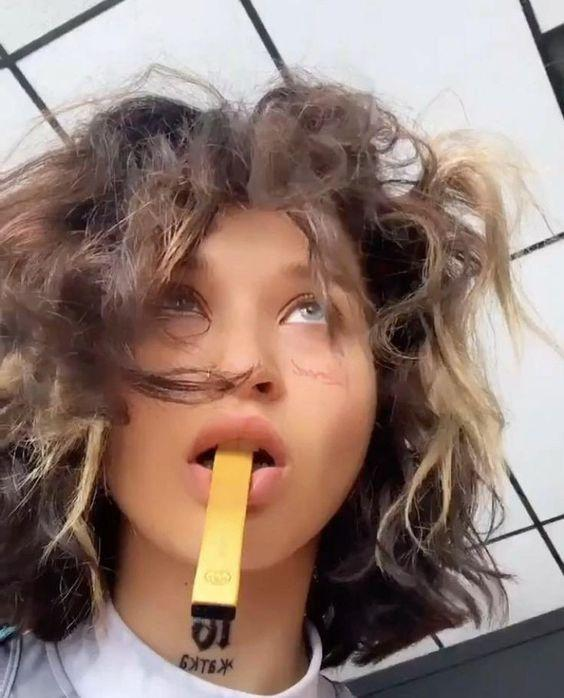Vape: (191, 448, 252, 651)
